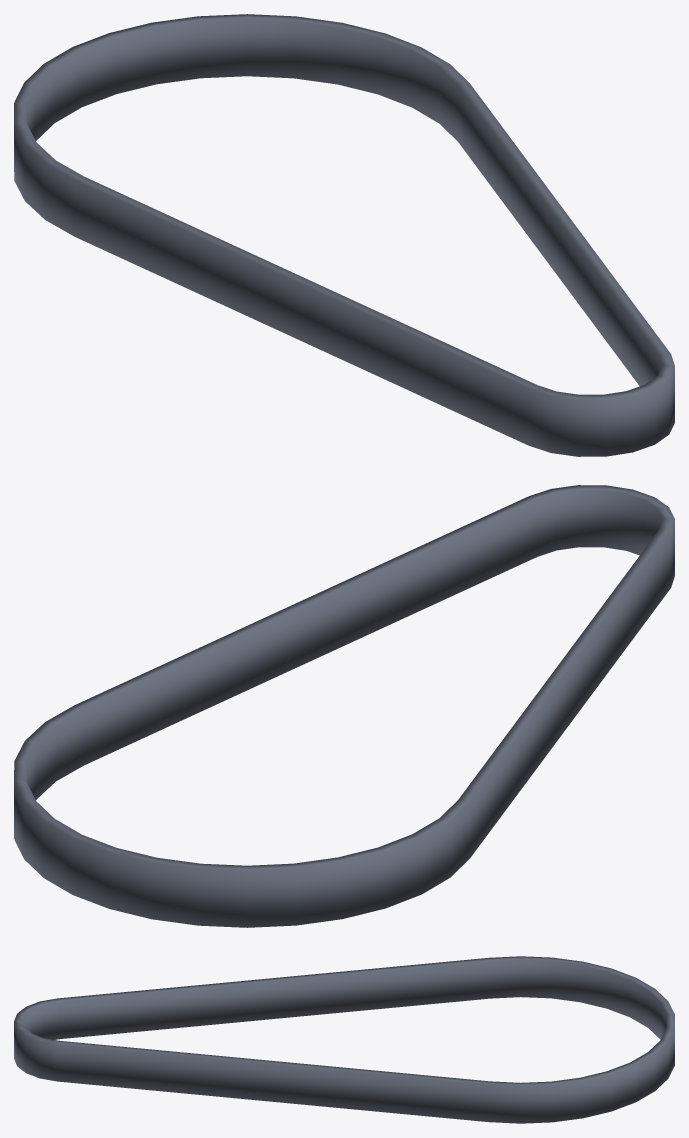
The model's file is solo_upper_leg_left_side_1.obj.
3 renders of one model, top to bottom at view 1: azimuth 30°, elevation 25°; view 2: azimuth 150°, elevation 25°; view 3: azimuth 270°, elevation 25°, orthographic. The views are drawn at different scales.
Bounding box in the file's own units: 0.0298 × 0.004 × 0.0641.
